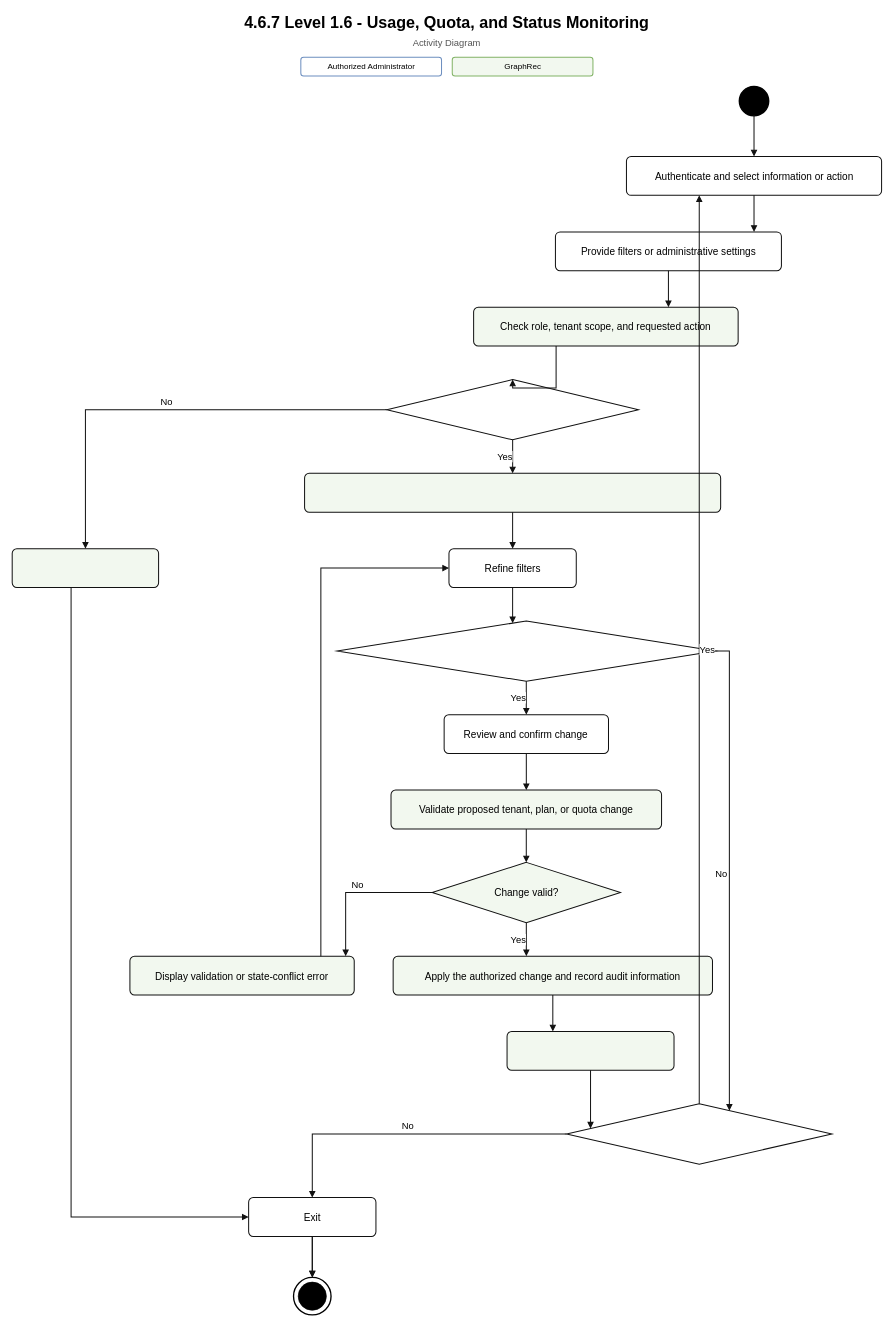
Image size: 894x1327. Some labels were removed from this diagram. Each missing label, with the centre of its shape:
"Administrative change selected?" goes at point 526,650.
"Continue monitoring?" goes at point 699,1133.
"Display authorized usage, quota, model, service, failure, or audit information" goes at point 512,492.
"Display permission error" goes at point 85,568.
"Display updated information" goes at point 590,1051.
"Permission granted?" goes at point 512,409.
